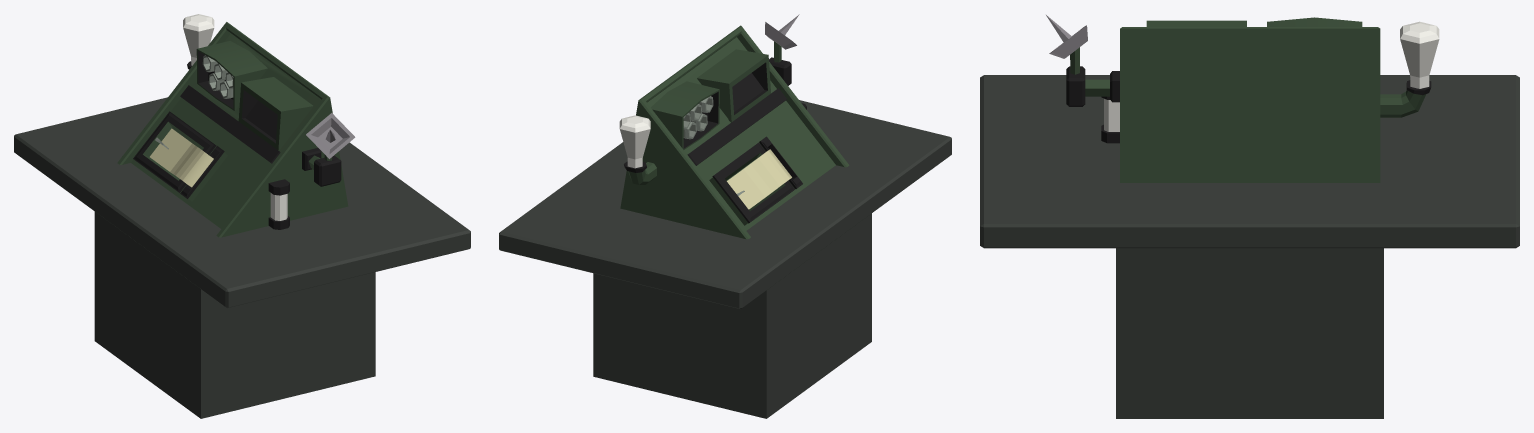
File: Switch_Board_004.fbx
3 views of the same model, side by side, from view 1: azimuth 30°, elevation 25°; view 2: azimuth 150°, elevation 25°; view 3: azimuth 270°, elevation 25° (orthographic). The views are drawn at different scales.
Parts seen in each view (by area): view 1: SwitchBoard, Switchboard_Table_Legs_001, SwitchBoardBox_001, Screen_001, Paper_001, Screen_002, pCube17, GlassTube_001, Aerial_Attachment_003, Depository_001, Glass_Tube_003; view 2: SwitchBoard, Switchboard_Table_Legs_001, SwitchBoardBox_001, Screen_001, Screen_002, Paper_001, GlassTube_001, BulbTubing_001, Depository_001; view 3: SwitchBoard, Switchboard_Table_Legs_001, SwitchBoardBox_001, GlassTube_001, BulbTubing_001, Aerial_Attachment_003, Screen_001, pCube17, Glass_Tube_003.
Boxes of the visible parts, x1,y1,x2,y2 form: SwitchBoard: (14,97,470,308); Switchboard_Table_Legs_001: (94,211,375,418); SwitchBoardBox_001: (117,22,348,237); Screen_001: (238,77,313,150); Paper_001: (150,128,213,187); Screen_002: (133,111,216,192); pCube17: (306,113,355,158); GlassTube_001: (183,14,214,65); Aerial_Attachment_003: (314,155,341,186); Depository_001: (180,146,227,201); Glass_Tube_003: (270,193,287,220); SwitchBoard: (499,100,951,309); Switchboard_Table_Legs_001: (593,213,871,418); SwitchBoardBox_001: (620,25,849,239); Screen_001: (697,49,770,122); Screen_002: (709,142,794,225); Paper_001: (727,149,791,209); GlassTube_001: (619,115,650,168); BulbTubing_001: (624,161,656,184); Depository_001: (759,136,802,188); SwitchBoard: (980,75,1519,248); Switchboard_Table_Legs_001: (1116,248,1383,418); SwitchBoardBox_001: (1120,17,1380,182); GlassTube_001: (1400,21,1439,88); BulbTubing_001: (1380,80,1431,117); Aerial_Attachment_003: (1066,66,1085,106); Screen_001: (1146,20,1246,26); pCube17: (1049,25,1087,58); Glass_Tube_003: (1104,98,1119,131).
Bounding box in the file's own units: 277 × 311 × 418.
Materials: 2 (2 with a texture image).
